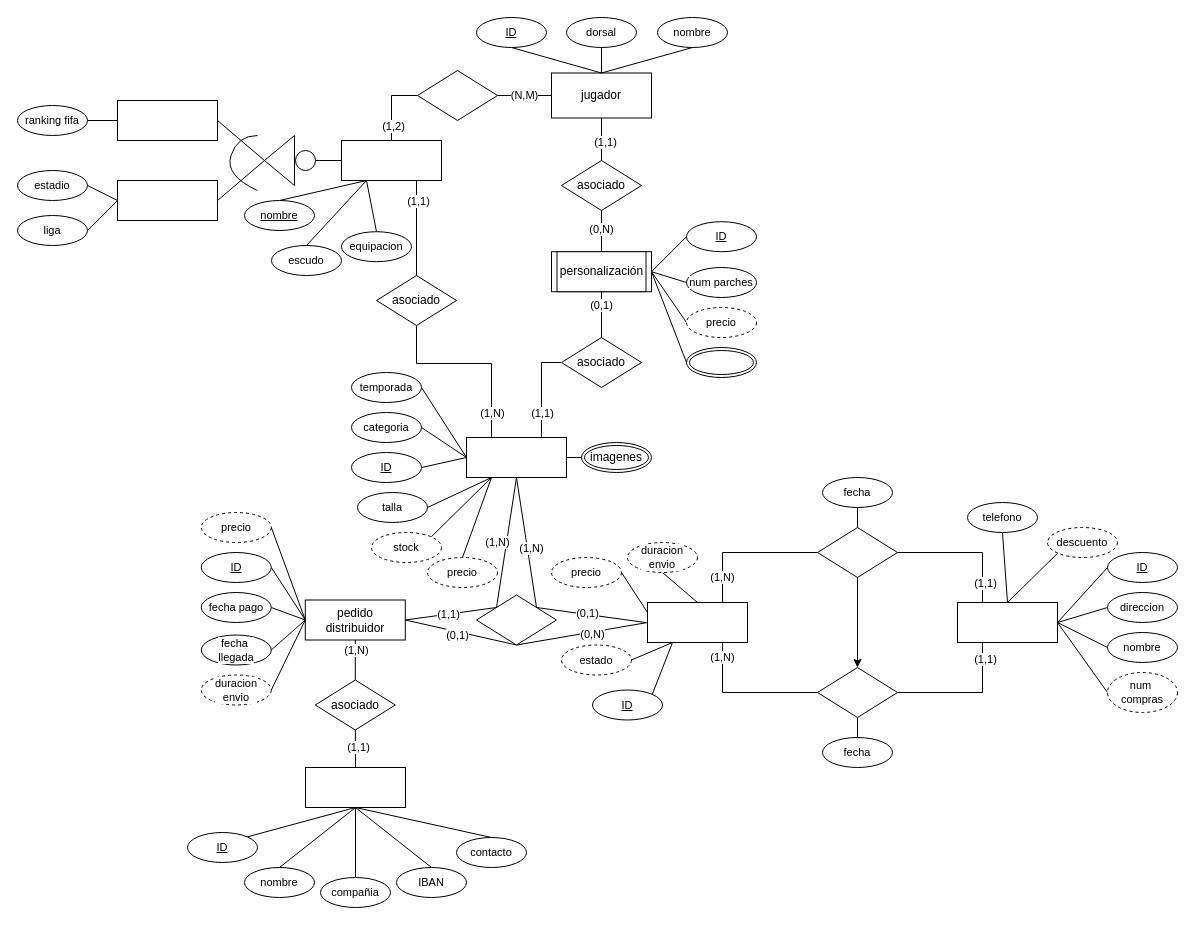
Some shapes in this 1195 by 925 pixel diagram are drawn without their labels. Each missing label, with the centre of its shape:
camiseta: the point at 516,457
cliente: the point at 1007,622
club: the point at 167,200
contiene: the point at 516,619
distribuidor: the point at 355,787
envia: the point at 857,692
equipo: the point at 391,160
parches: the point at 721,362
pedido cliente: the point at 697,622
pertenece: the point at 457,95
realiza: the point at 857,552
seleccion nacional: the point at 167,120
